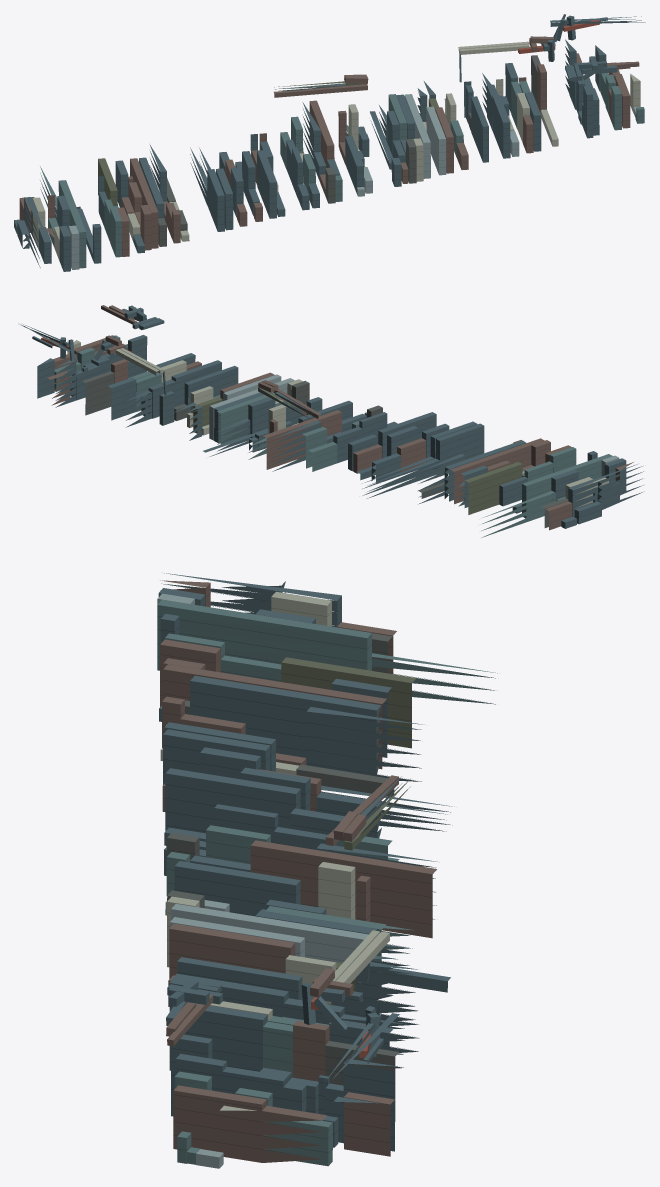
Rendered from terminal-20---125_-28.glb.
3 views of the same model, one above another, from view 1: azimuth 30°, elevation 25°; view 2: azimuth 150°, elevation 25°; view 3: azimuth 270°, elevation 25° (orthographic). The views are drawn at different scales.
Parts seen in each view (by area): view 1: measured-industrial; view 2: measured-industrial; view 3: measured-industrial.
Boxes of the visible parts, x1,y1,x2,y2 form: measured-industrial: [14, 14, 645, 271]; measured-industrial: [20, 305, 644, 537]; measured-industrial: [157, 573, 497, 1168].
Size of the model in its own units: 273 by 31.22 by 69.28.
